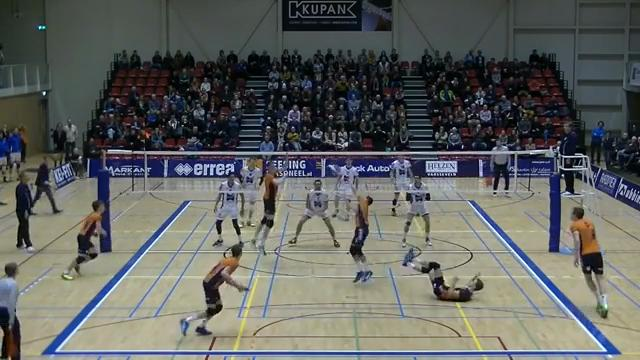Player: (180, 244, 247, 334), (403, 248, 483, 301), (570, 207, 607, 317), (61, 200, 105, 279), (251, 158, 287, 254), (289, 179, 339, 247), (213, 174, 244, 245), (402, 176, 431, 246), (332, 158, 358, 219), (241, 158, 261, 226), (390, 155, 412, 215)
Set: (339, 172, 377, 290)
